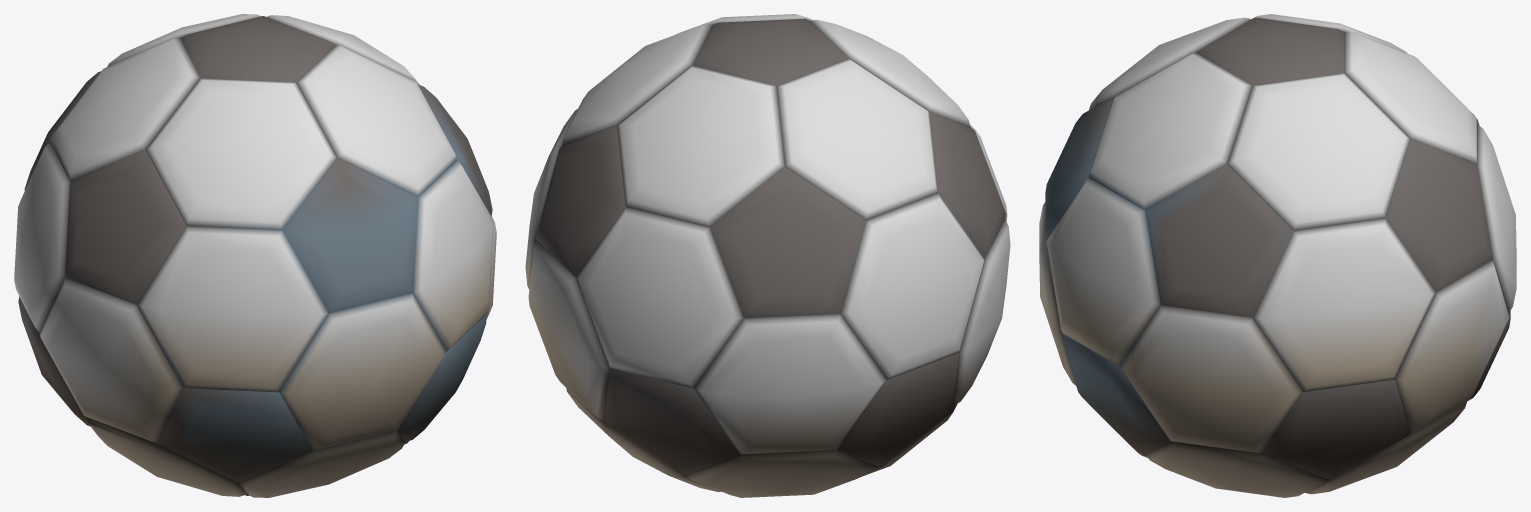
The picture shows the model from 3 angles, left to right: view 1: azimuth 30°, elevation 25°; view 2: azimuth 150°, elevation 25°; view 3: azimuth 270°, elevation 25°; orthographic projection.
Visible parts, largest first — view 1: Joint_0_Object_1, Joint_0_Object_0; view 2: Joint_0_Object_1, Joint_0_Object_0; view 3: Joint_0_Object_1, Joint_0_Object_0.
Part boxes in pixels (left/top/right/bottom): Joint_0_Object_1: left=14, top=14, right=496, bottom=497; Joint_0_Object_0: left=18, top=16, right=492, bottom=495; Joint_0_Object_1: left=525, top=14, right=1010, bottom=497; Joint_0_Object_0: left=536, top=18, right=1006, bottom=474; Joint_0_Object_1: left=1039, top=14, right=1516, bottom=497; Joint_0_Object_0: left=1045, top=17, right=1510, bottom=479.
Bounding box in the file's own units: 499 × 509 × 500.
